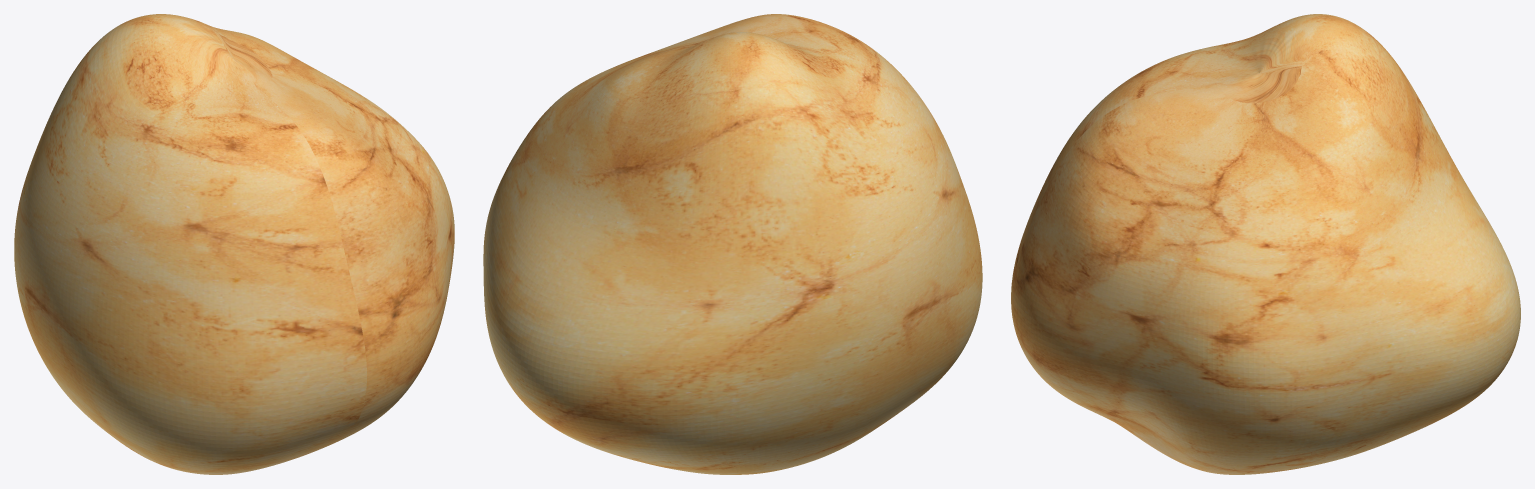
Rendered from Asteroid_3-2.fbx.
3 views of the same model, side by side, from view 1: azimuth 30°, elevation 25°; view 2: azimuth 150°, elevation 25°; view 3: azimuth 270°, elevation 25° (orthographic). The views are drawn at different scales.
Visible parts, largest first — view 1: Asteroid_3-2; view 2: Asteroid_3-2; view 3: Asteroid_3-2.
Boxes of the visible parts, left/top/right/bottom form: Asteroid_3-2: left=14, top=14, right=454, bottom=474; Asteroid_3-2: left=483, top=14, right=982, bottom=474; Asteroid_3-2: left=1011, top=14, right=1520, bottom=474.
Size of the model in its own units: 2 by 2.23 by 1.94.
Materials: 1 (1 with a texture image).
